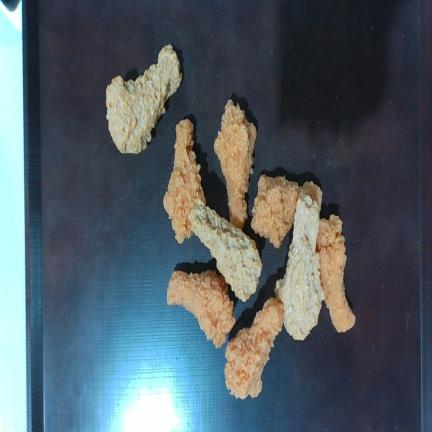chicken: (106, 44, 182, 154), (189, 199, 262, 301), (275, 190, 324, 340), (225, 298, 282, 398), (214, 100, 256, 227), (163, 119, 206, 243), (167, 271, 235, 348), (316, 215, 355, 332), (251, 175, 301, 248)
